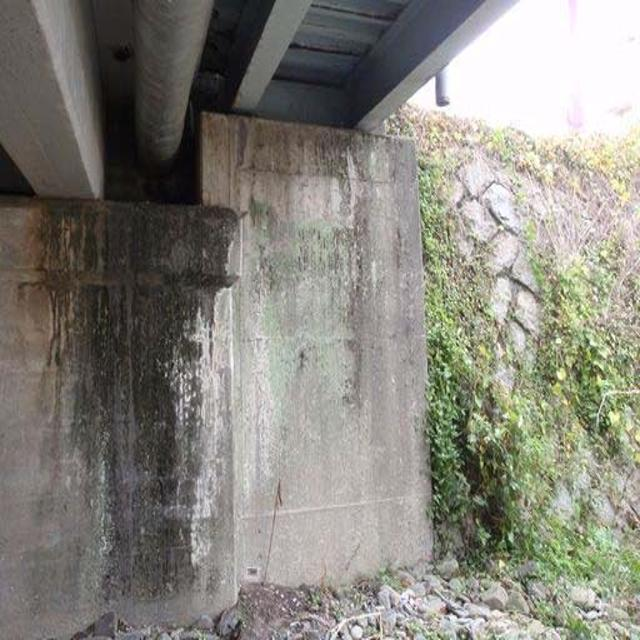leakage: (40, 184, 241, 570)
